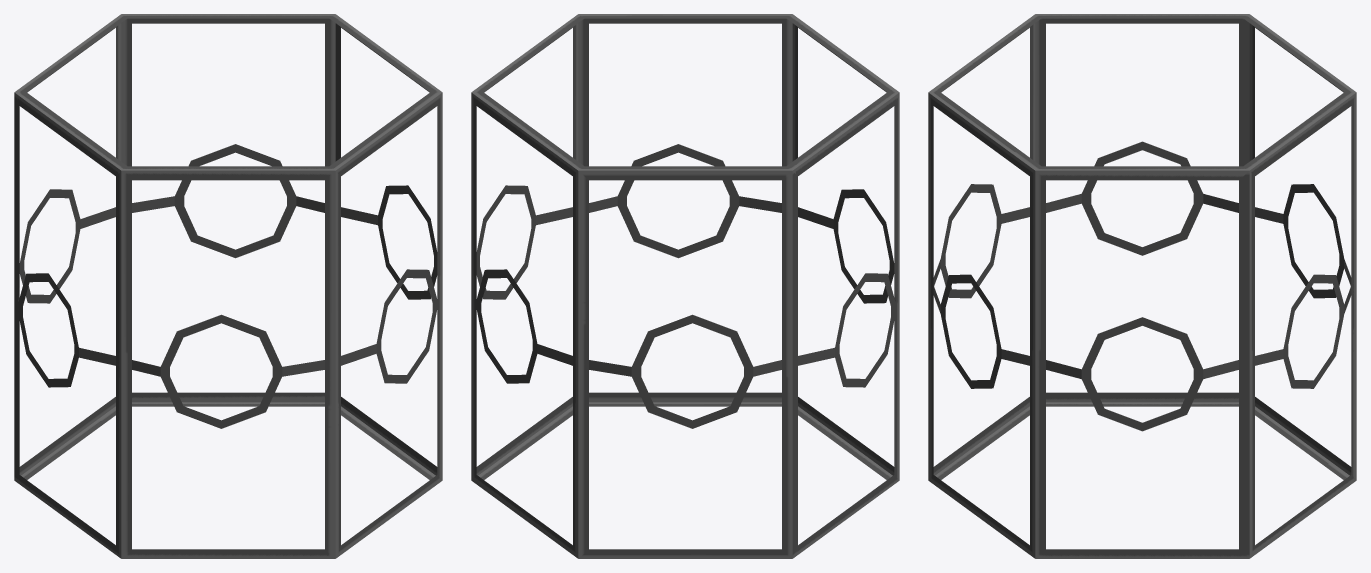
File: Lamp.fbx
The picture shows the model from 3 angles, left to right: view 1: azimuth 30°, elevation 25°; view 2: azimuth 150°, elevation 25°; view 3: azimuth 270°, elevation 25°; orthographic projection.
Parts seen in each view (by area): view 1: Lamp; view 2: Lamp; view 3: Lamp.
Boxes of the visible parts, <box> form: Lamp: <box>14,14,442,558</box>; Lamp: <box>471,14,899,558</box>; Lamp: <box>928,14,1356,558</box>.
Bounding box in the file's own units: 0.97 × 1 × 1.
